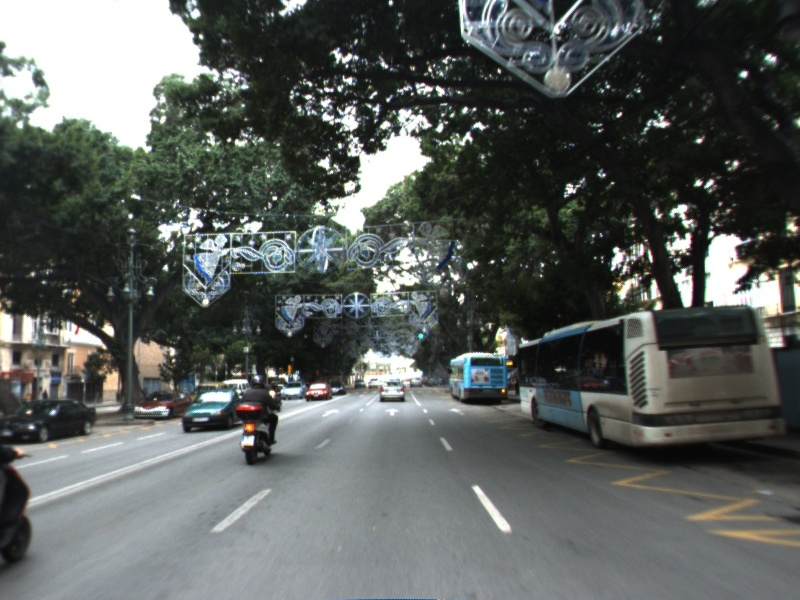STRAIGHT: (447, 406, 469, 418), (320, 407, 342, 418), (383, 406, 402, 418)
